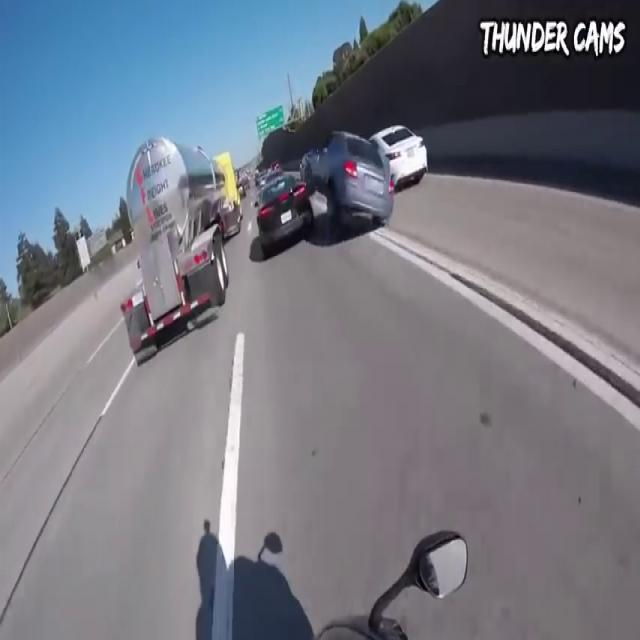accident: (251, 152, 393, 274)
